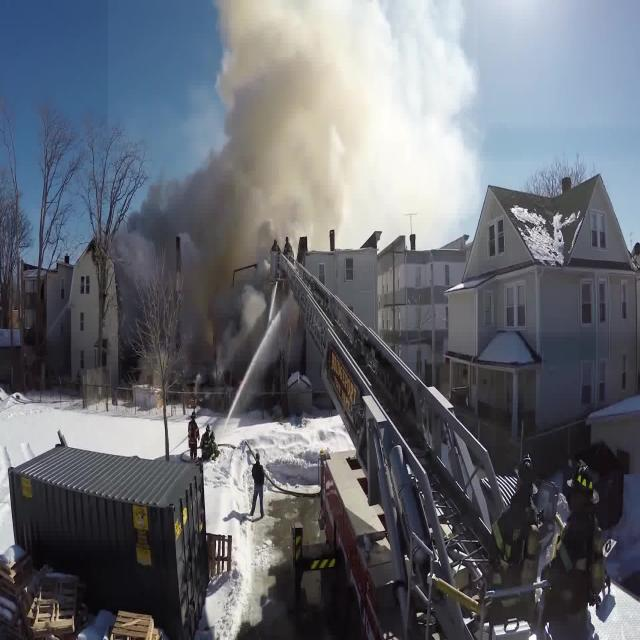Smoke: (108, 0, 478, 362)
